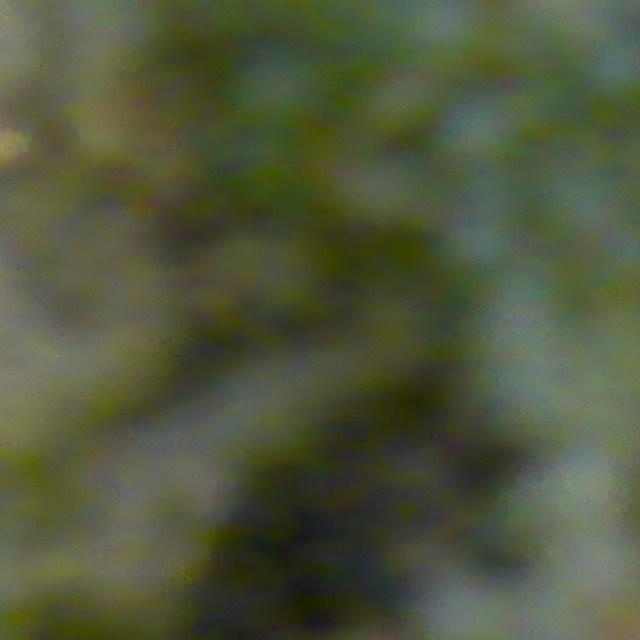SeaGrape: (229, 45, 328, 138), (331, 147, 431, 238), (437, 84, 534, 173), (393, 0, 498, 77), (418, 572, 519, 640), (439, 206, 518, 276), (365, 68, 442, 138), (583, 28, 640, 112)
